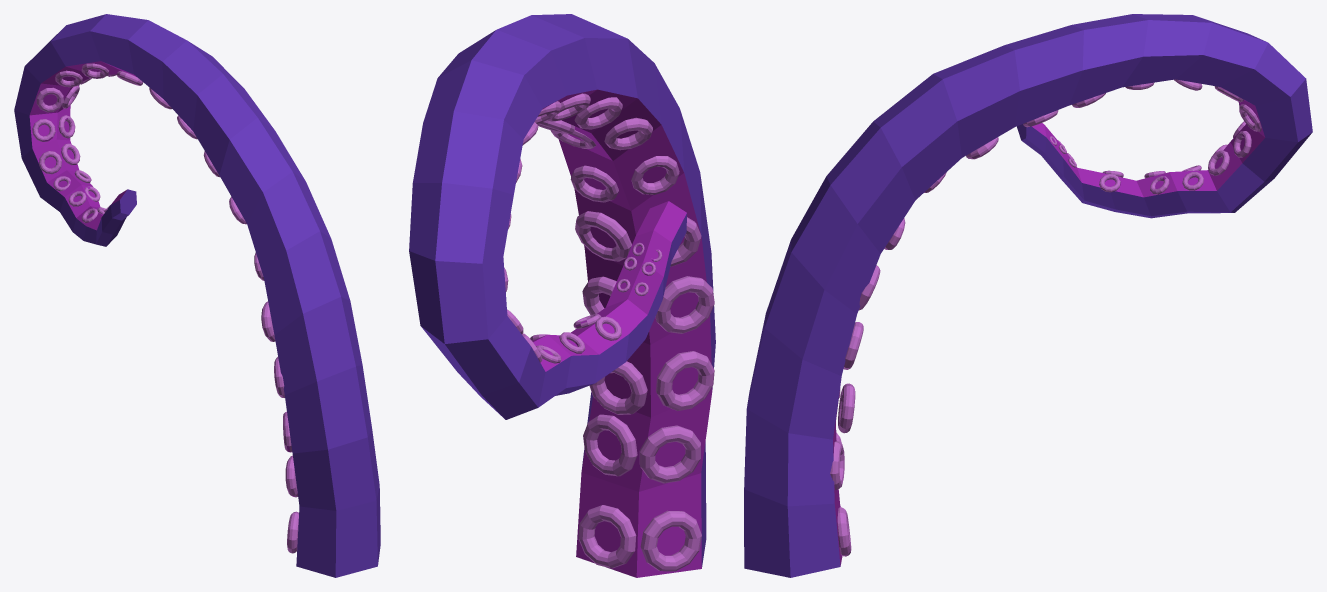
Rendered from Skyscraper.glb.
The picture shows the model from 3 angles, left to right: view 1: azimuth 30°, elevation 25°; view 2: azimuth 150°, elevation 25°; view 3: azimuth 270°, elevation 25°; orthographic projection. The views are drawn at different scales.
Visible parts, largest first — view 1: group2011062784; view 2: group2011062784, group1393601616, group1332905129, group1558010521, group641658367, group961867331, group1678693649, group1215176773, group1090467124, group1897531382, group16240601, group2044221951 (+6 smaller); view 3: group2011062784, group1090467124.
Part boxes in pixels (box(x1,y1,x2,y2)): group2011062784: box(14, 14, 380, 577); group2011062784: box(409, 14, 715, 577); group1393601616: box(640, 510, 701, 571); group1332905129: box(639, 425, 700, 483); group1558010521: box(578, 505, 636, 568); group641658367: box(656, 351, 714, 410); group961867331: box(655, 276, 714, 333); group1678693649: box(583, 414, 637, 476); group1215176773: box(575, 211, 631, 261); group1090467124: box(589, 361, 647, 414); group1897531382: box(631, 156, 679, 194); group16240601: box(570, 165, 618, 202); group2044221951: box(604, 117, 652, 150); group2011062784: box(744, 14, 1312, 577); group1090467124: box(838, 383, 855, 433).
Size of the model in its own units: 0.407 by 1.02 by 1.02.
